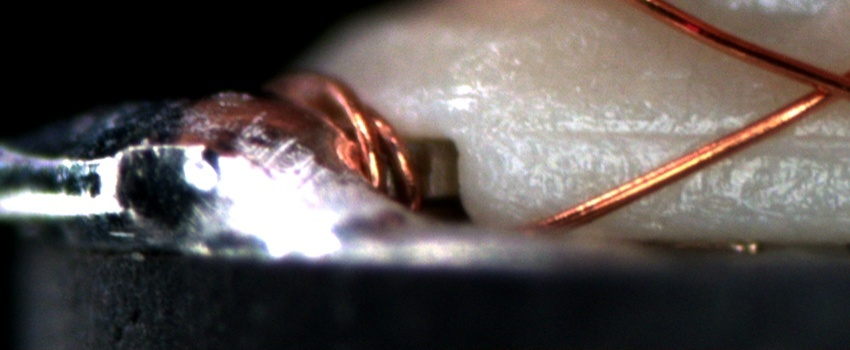CL: (783, 57, 846, 112)
DL: (520, 103, 850, 163)
TE: (279, 62, 434, 223)
